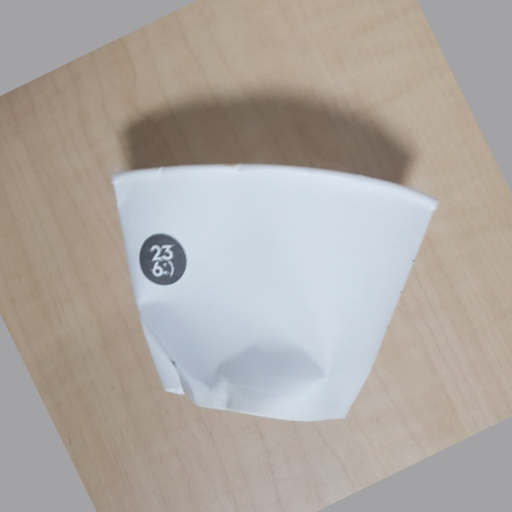Paper_1: (107, 153, 438, 424)
